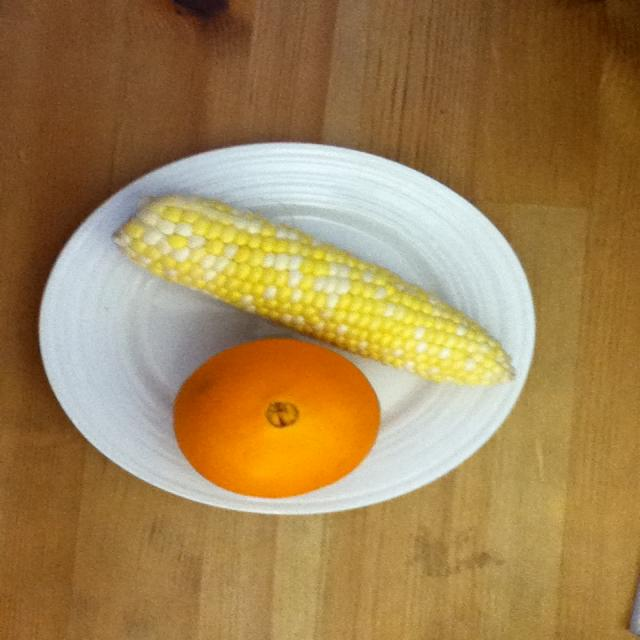corn: (108, 196, 476, 336)
orange: (170, 342, 427, 488)
